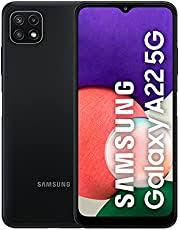Smartphone: (77, 5, 174, 224), (5, 3, 85, 224)
